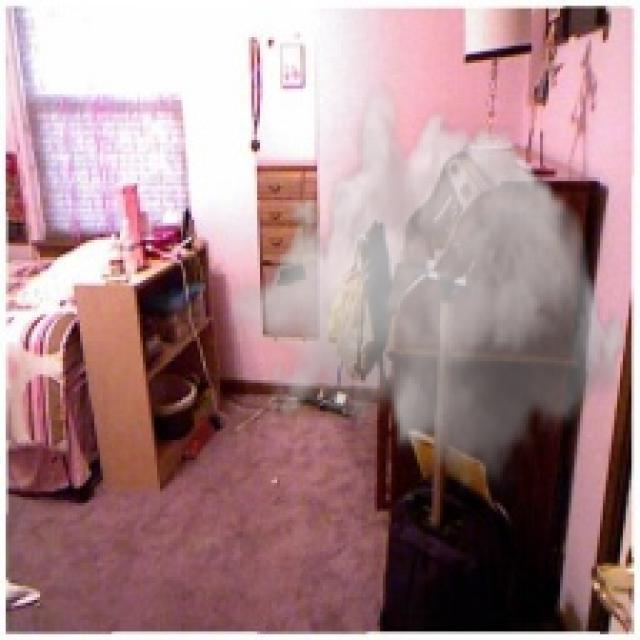Smoke: (228, 82, 632, 498)
